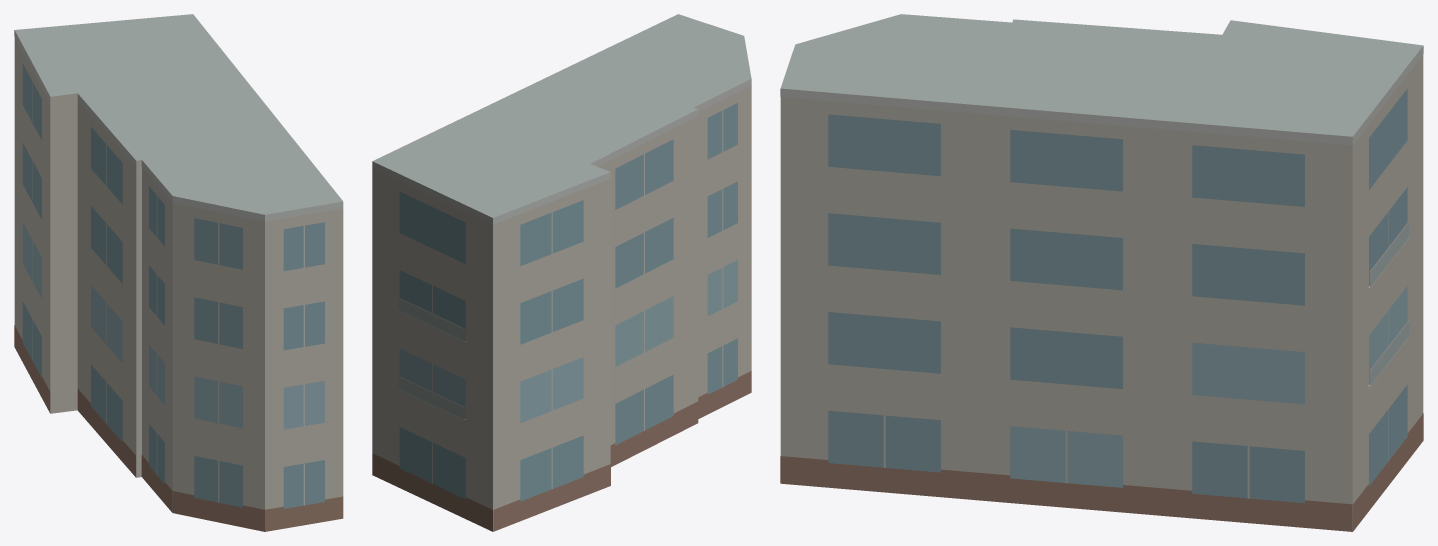
Rendered from survey-upis-32499833.glb.
3 views of the same model, side by side, from view 1: azimuth 30°, elevation 25°; view 2: azimuth 150°, elevation 25°; view 3: azimuth 270°, elevation 25° (orthographic). The views are drawn at different scales.
Parts seen in each view (by area): view 1: survey-upis-32499833.tmp; view 2: survey-upis-32499833.tmp; view 3: survey-upis-32499833.tmp.
Boxes of the visible parts, x1,y1,x2,y2 form: survey-upis-32499833.tmp: (14,14,343,531); survey-upis-32499833.tmp: (372,14,751,531); survey-upis-32499833.tmp: (780,14,1423,531).
Size of the model in its own units: 7.61 by 11.4 by 16.82.
